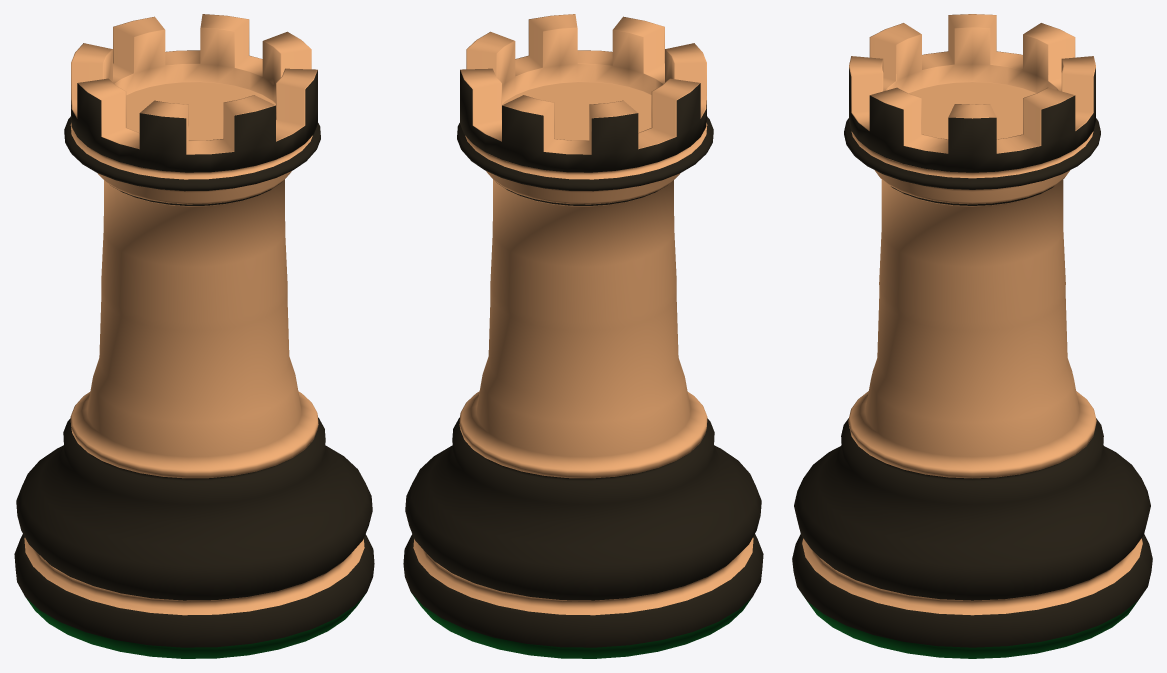
Rendered from RookWhite.fbx.
3 renders of one model, left to right at view 1: azimuth 30°, elevation 25°; view 2: azimuth 150°, elevation 25°; view 3: azimuth 270°, elevation 25°, orthographic.
Visible parts, largest first — view 1: White Rook Q; view 2: White Rook Q; view 3: White Rook Q.
Boxes of the visible parts, x1,y1,x2,y2 form: White Rook Q: (14,14,374,658); White Rook Q: (403,14,763,658); White Rook Q: (792,14,1152,658).
Size of the model in its own units: 4.04 by 6.45 by 4.04.
